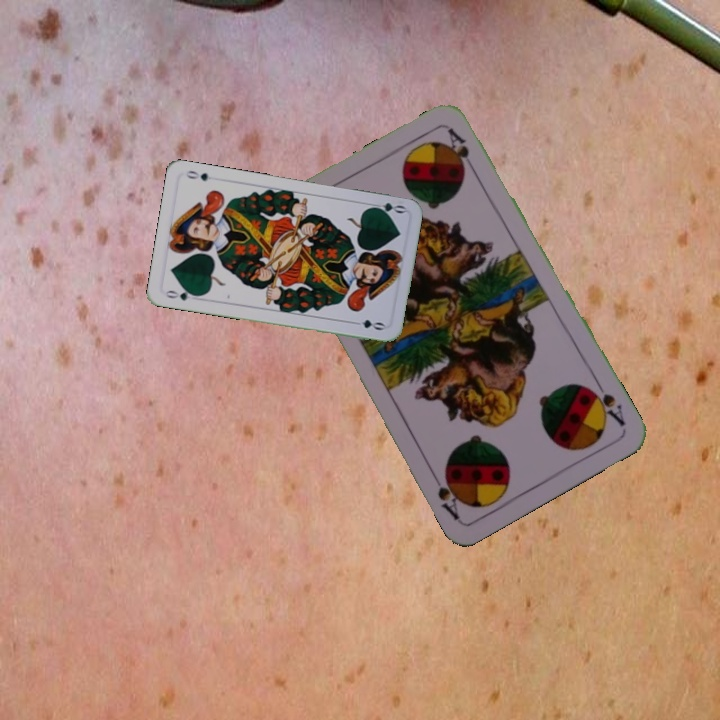GO: (366, 199, 407, 217), (162, 286, 202, 303)
SA: (584, 376, 628, 429)
